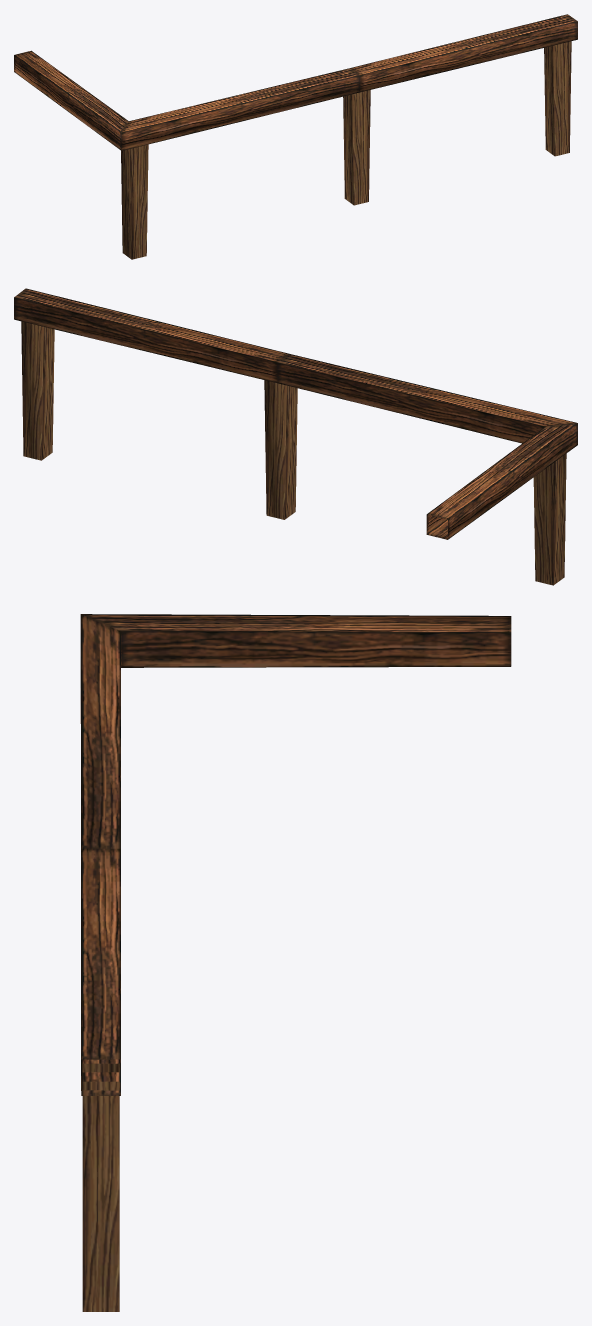
The model's file is LAKETOWN_EXTERIOR_PS_LT_HANDRAILS74746__GX.fbx.
3 renders of one model, top to bottom at view 1: azimuth 30°, elevation 25°; view 2: azimuth 150°, elevation 25°; view 3: azimuth 270°, elevation 25°, orthographic. The views are drawn at different scales.
Visible parts, largest first — view 1: LAKETOWN_EXTERIOR_PS_LT_HANDRAILS74746__GX; view 2: LAKETOWN_EXTERIOR_PS_LT_HANDRAILS74746__GX; view 3: LAKETOWN_EXTERIOR_PS_LT_HANDRAILS74746__GX.
Part boxes in pixels (<box>): LAKETOWN_EXTERIOR_PS_LT_HANDRAILS74746__GX: <box>14,14,577,259</box>; LAKETOWN_EXTERIOR_PS_LT_HANDRAILS74746__GX: <box>14,288,577,585</box>; LAKETOWN_EXTERIOR_PS_LT_HANDRAILS74746__GX: <box>80,614,511,1311</box>.
Bounding box in the file's own units: 35934 × 9772 × 14672.
Materials: 2 (2 with a texture image).
